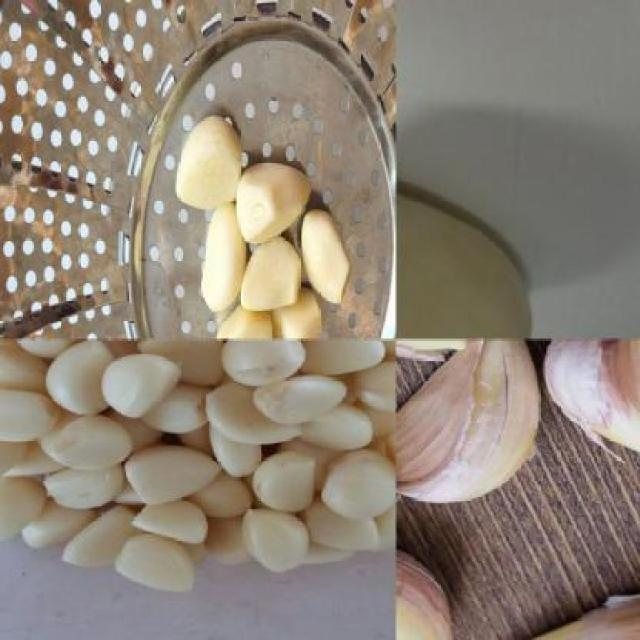garlic: (0, 339, 395, 596), (172, 104, 352, 338), (396, 174, 544, 338), (396, 338, 532, 504), (458, 542, 639, 640), (539, 339, 639, 488), (395, 502, 457, 640), (120, 439, 230, 512), (194, 199, 260, 313), (232, 156, 316, 245), (178, 112, 249, 214), (234, 504, 316, 584), (113, 534, 205, 604), (36, 412, 136, 474), (250, 370, 352, 430), (298, 204, 356, 309), (119, 492, 224, 548), (246, 443, 324, 518), (322, 447, 400, 521), (94, 352, 186, 414)
